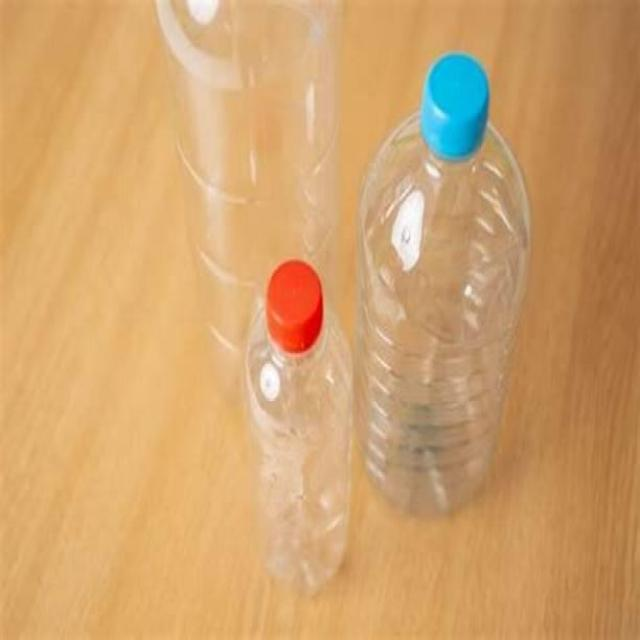plastic bottle: (157, 0, 334, 413), (359, 111, 532, 515), (247, 306, 357, 596)
plastic bottle cap: (425, 53, 489, 155), (267, 257, 324, 350)
